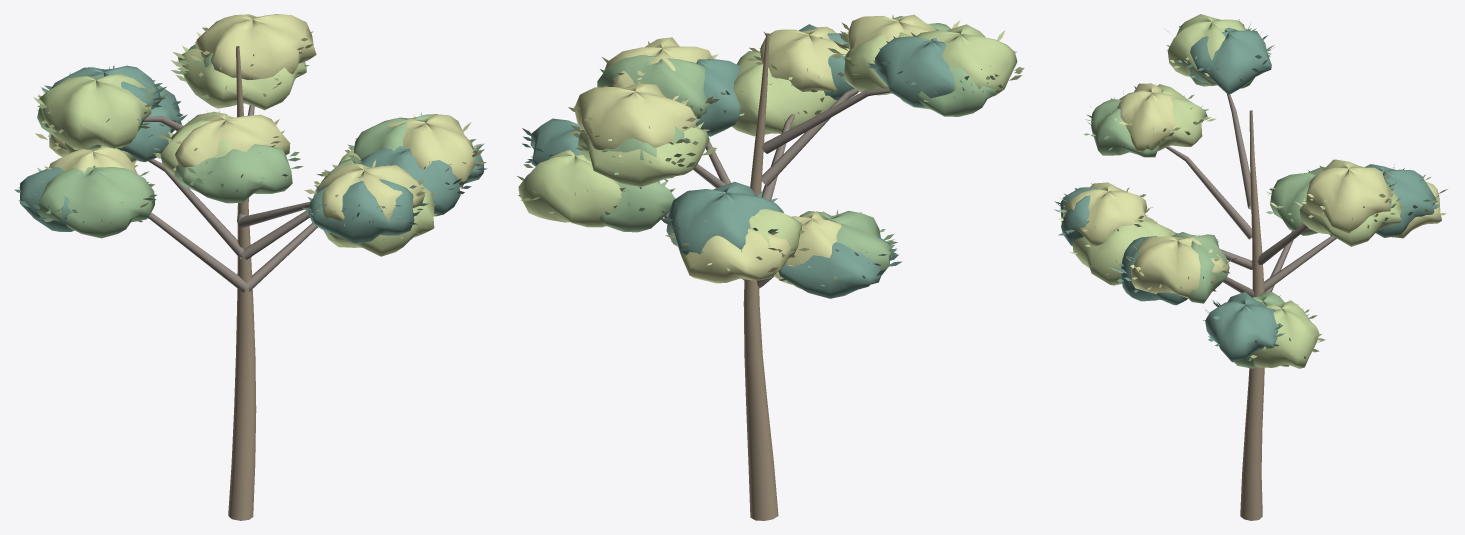
File: birch_twin.glb
3 renders of one model, left to right at view 1: azimuth 30°, elevation 25°; view 2: azimuth 150°, elevation 25°; view 3: azimuth 270°, elevation 25°, orthographic. The views are drawn at different scales.
Parts seen in each view (by area): view 1: birch_twin; view 2: birch_twin; view 3: birch_twin.
Boxes of the visible parts, x1,y1,x2,y2 form: birch_twin: [14, 14, 487, 520]; birch_twin: [517, 14, 1024, 520]; birch_twin: [1054, 14, 1447, 520].
Size of the model in its own units: 8.81 by 8.98 by 7.62.
